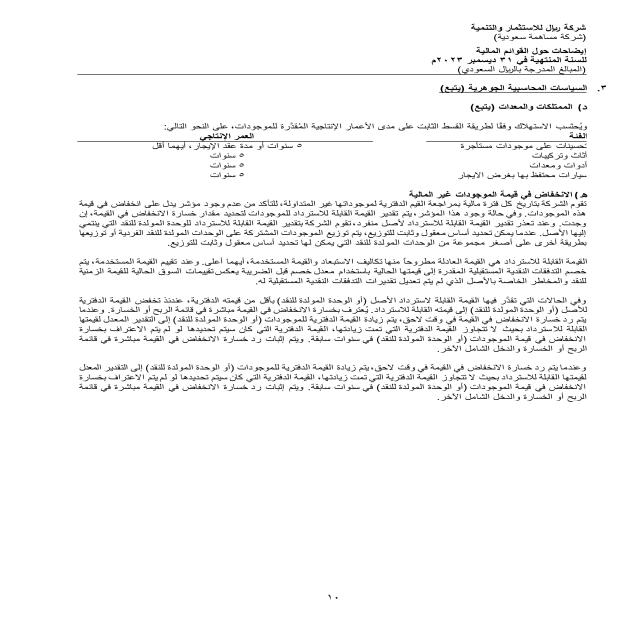notes: (455, 45, 593, 56)
table: (85, 132, 589, 188)
